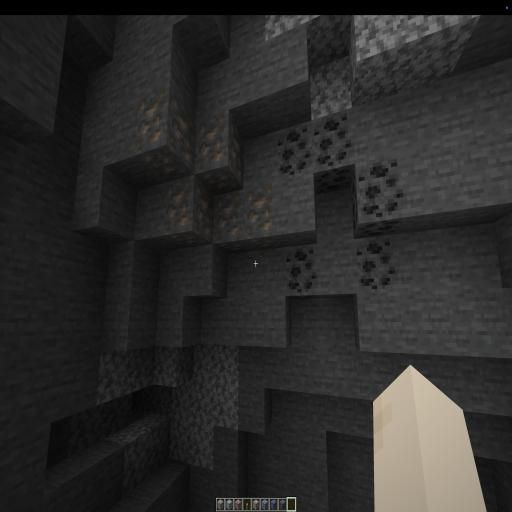coal ore: (273, 114, 401, 296)
iron ore: (135, 94, 274, 261)
